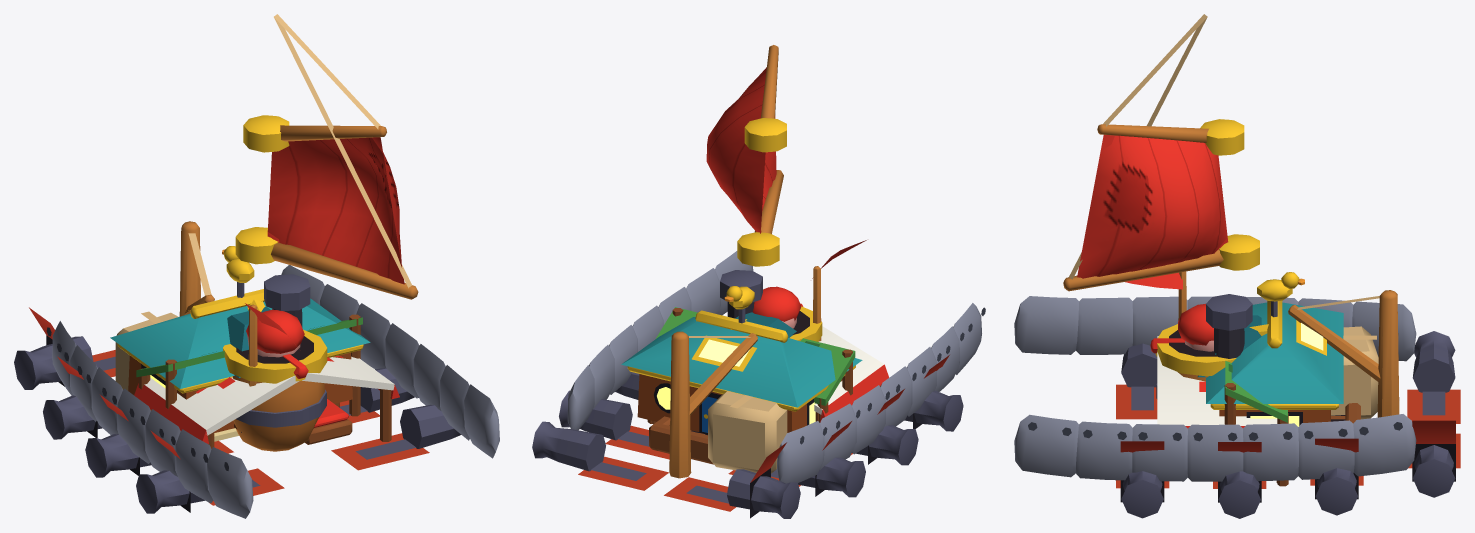
The model's file is modules_brigantine.glb.
The picture shows the model from 3 angles, left to right: view 1: azimuth 30°, elevation 25°; view 2: azimuth 150°, elevation 25°; view 3: azimuth 270°, elevation 25°; orthographic projection. The views are drawn at different scales.
Visible parts, largest first — view 1: Plating, GaffSail, GunDeck, Quarters, CrowsNest, RiggingSpars, Infirmary, CargoHold, Galley, Workshop; view 2: Plating, GunDeck, Quarters, CargoHold, GaffSail, RiggingSpars, CrowsNest, Infirmary, Workshop, Galley; view 3: Plating, GaffSail, GunDeck, Quarters, RiggingSpars, CargoHold, CrowsNest, Infirmary, Galley, Workshop.
Boxes of the visible parts, left/top/right/bottom form: Plating: left=46, top=265, right=499, bottom=518; GaffSail: left=267, top=137, right=404, bottom=284; GunDeck: left=14, top=307, right=461, bottom=513; Quarters: left=110, top=246, right=370, bottom=432; CrowsNest: left=223, top=299, right=327, bottom=451; RiggingSpars: left=235, top=14, right=418, bottom=299; Infirmary: left=134, top=354, right=399, bottom=448; CargoHold: left=115, top=221, right=214, bottom=390; Galley: left=227, top=274, right=310, bottom=432; Workshop: left=136, top=314, right=362, bottom=441; Plating: left=567, top=251, right=985, bottom=483; GunDeck: left=532, top=355, right=963, bottom=518; Quarters: left=621, top=286, right=862, bottom=434; CargoHold: left=649, top=331, right=787, bottom=478; GaffSail: left=706, top=67, right=776, bottom=233; RiggingSpars: left=737, top=45, right=786, bottom=266; CrowsNest: left=730, top=240, right=866, bottom=341; Infirmary: left=652, top=303, right=888, bottom=424; Workshop: left=647, top=307, right=855, bottom=423; Galley: left=720, top=270, right=796, bottom=337; Plating: left=1014, top=296, right=1416, bottom=481; GaffSail: left=1077, top=135, right=1228, bottom=278; GunDeck: left=1116, top=331, right=1460, bottom=518; Quarters: left=1206, top=272, right=1343, bottom=426; RiggingSpars: left=1063, top=14, right=1259, bottom=291; CargoHold: left=1288, top=290, right=1399, bottom=423; CrowsNest: left=1125, top=271, right=1268, bottom=399; Infirmary: left=1150, top=336, right=1277, bottom=482; Galley: left=1197, top=294, right=1261, bottom=377; Workshop: left=1224, top=361, right=1288, bottom=486.
Bounding box in the file's own units: 1.24 × 1.58 × 1.5.
5 materials, 2 textured.
